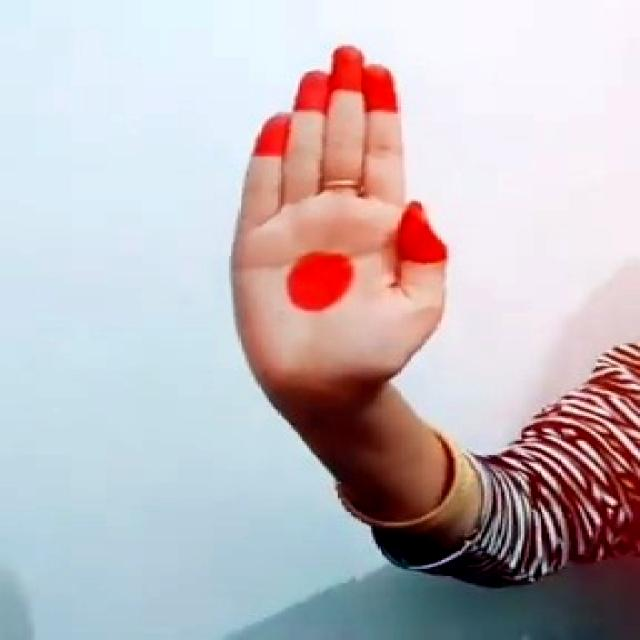Pataka: (207, 31, 478, 418)
bangle: (319, 426, 484, 540)
